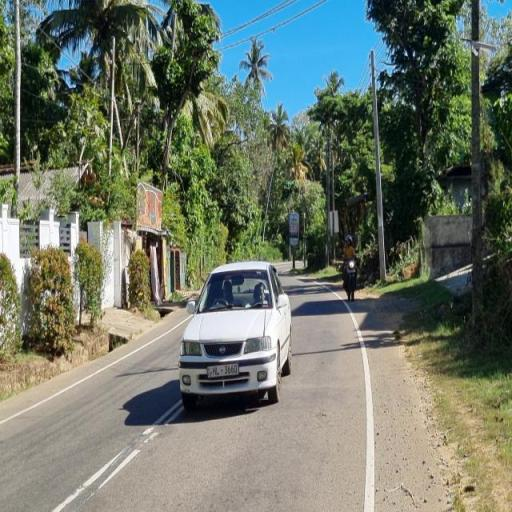double_white_line: (48, 398, 182, 512)
